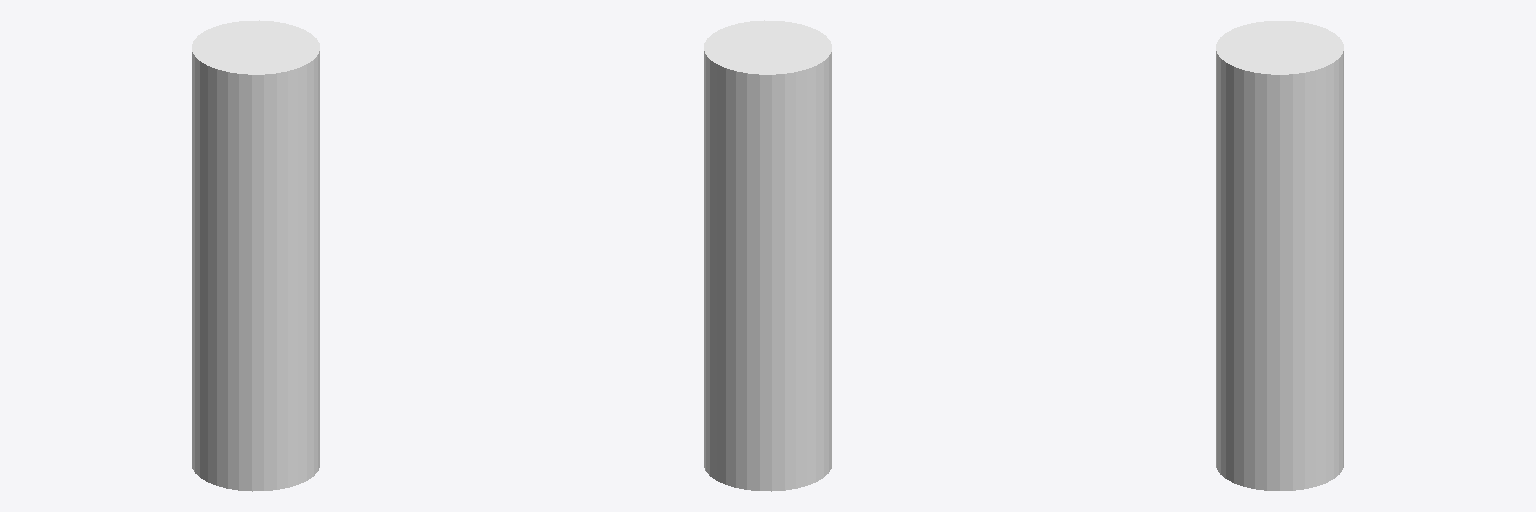
robot.urdf — cylinder:
<?xml version="1.0" ?>
<robot name="cylinder" xmlns:xacro="http://www.ros.org/wiki/xacro">
  <link name="cylinder">
    <visual>
      <geometry>
        <cylinder length="0.25" radius="0.035"/>
      </geometry>
      <material name="white">
        <color rgba="1 1 1 1"/>
      </material>
    </visual>
    <collision>
      <geometry>
        <cylinder length="0.25" radius="0.035"/>
      </geometry>
    </collision>
    <inertial>
      <mass value="0.2"/>
      <inertia ixx="0.0001" ixy="0" ixz="0" iyy="0.0001" iyz="0" izz="0.0001"/>
    </inertial>
  </link>
</robot>

--- What the picture shows (computed from the rendered views, not written in the file) ---
The picture shows the robot from 3 angles, left to right: view 1: azimuth 30°, elevation 25°; view 2: azimuth 150°, elevation 25°; view 3: azimuth 270°, elevation 25°; orthographic projection.
Robot: cylinder — 1 links, 0 joints (none); root link cylinder; default pose: every joint at zero.
Visible links, largest first — view 1: cylinder; view 2: cylinder; view 3: cylinder.
Link boxes in pixels (left/top/right/bottom): cylinder: left=192, top=20, right=319, bottom=491; cylinder: left=704, top=20, right=831, bottom=491; cylinder: left=1216, top=21, right=1343, bottom=490.
Size in the robot's own frame: 0.07 by 0.07 by 0.25 metres.
Geometry: primitives only (box / cylinder / sphere), no mesh files.
